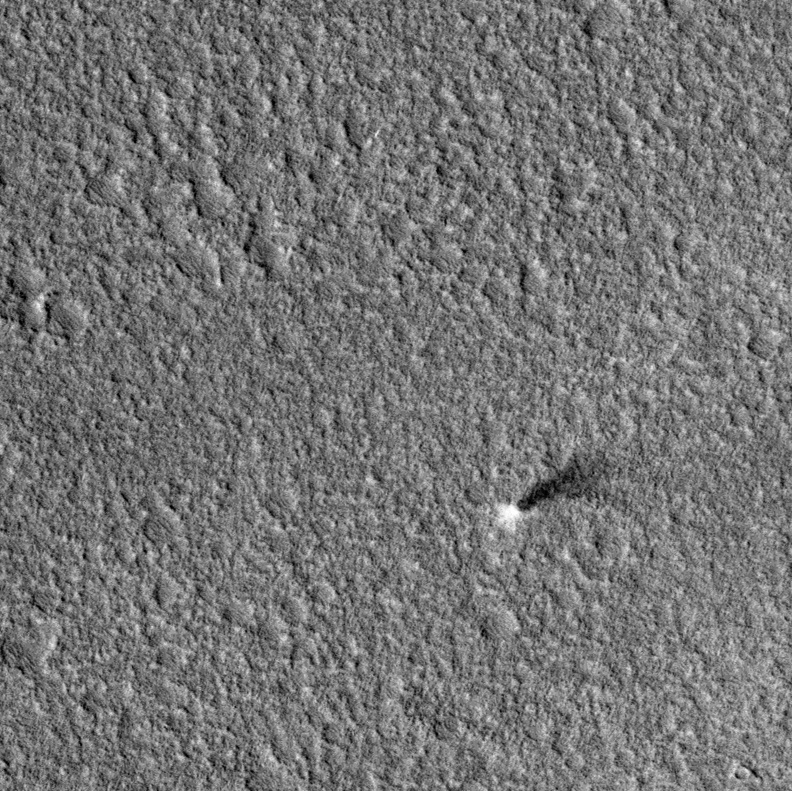dust_devil: (491, 448, 616, 535)
